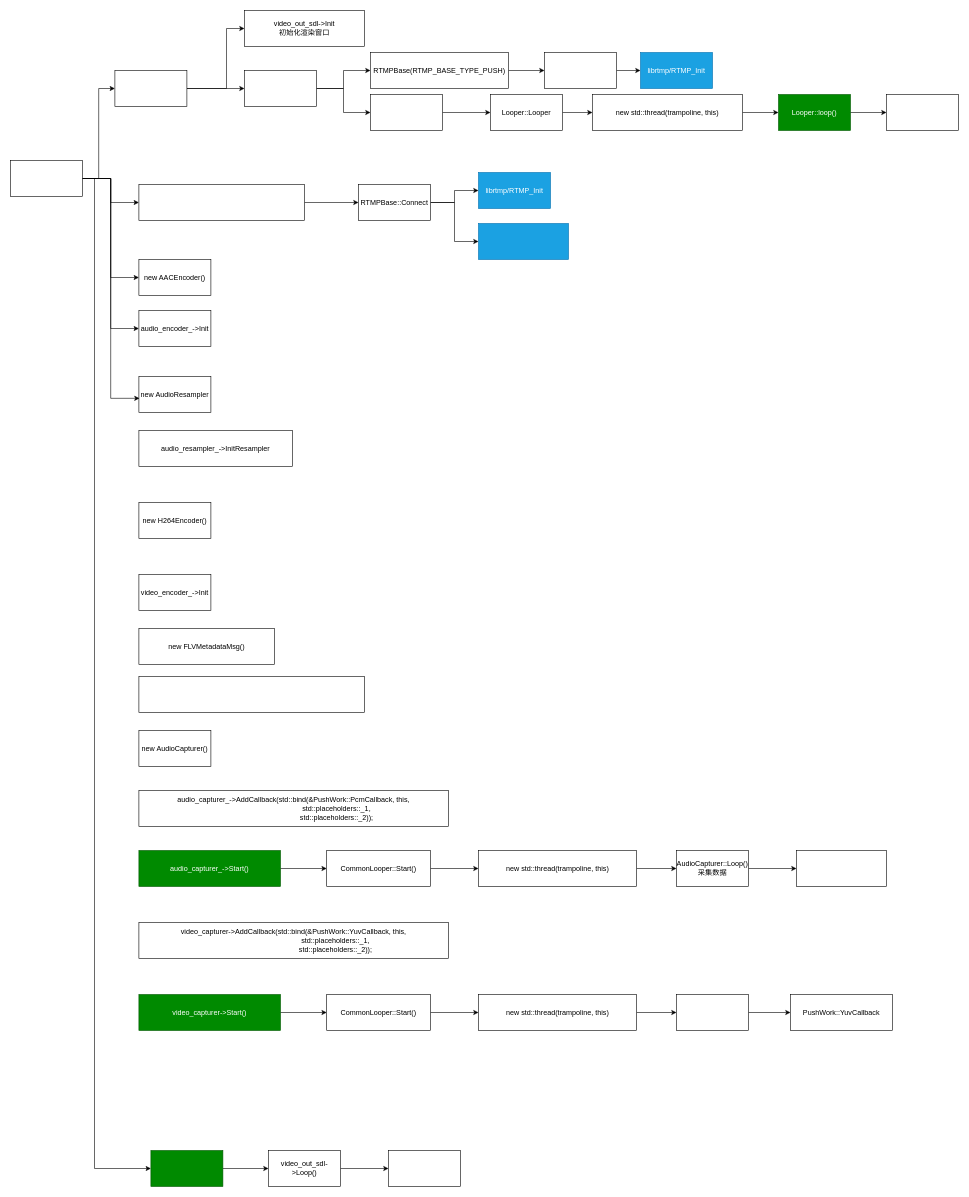
This 969x1197 diagram has some shape labels left out. The shapes that lost their labels are listed below. From the top down, each one's centre as x and y in pixels, then its label:
(x=150, y=88): pushwork.Init
(x=280, y=88): new RTMPPusher()
(x=580, y=70): RTMPBase::initRtmp
(x=406, y=112): NaluLoop(30)
(x=922, y=112): RTMPPusher::handle
(x=46, y=178): main
(x=221, y=202): rtmp_pusher->Connect(rtmp_url_)
(x=523, y=241): librtmp/RTMP_Connect
(x=251, y=694): rtmp_pusher->Post(RTMP_BODY_METADATA, metadata, false)
(x=841, y=868): PushWork::PcmCallback 重采样 编码
(x=712, y=1012): VideoCapturer::Loop()
(x=186, y=1168): pushwork.Loop()
(x=424, y=1168): VideoOutSDL::Output 渲染输出图像
